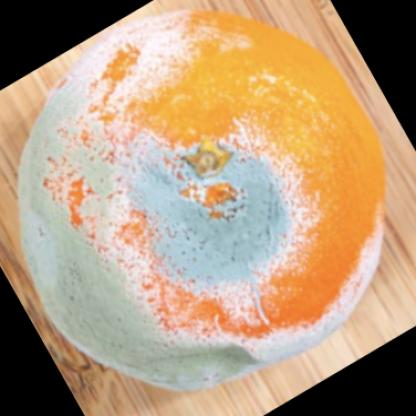rotten: (22, 13, 388, 391)
